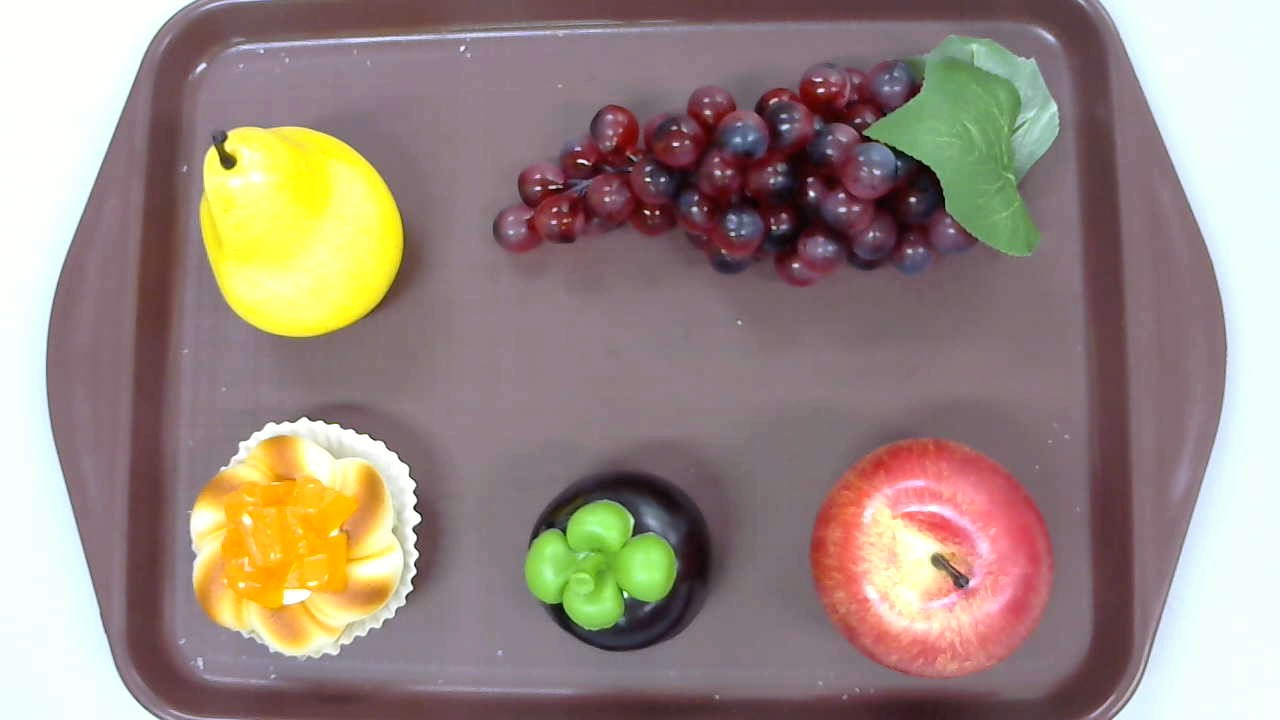grape: (492, 34, 1061, 289)
mango tower: (190, 416, 422, 664)
mangosteen: (523, 468, 714, 652)
red apple: (809, 435, 1053, 681)
yellow pear: (199, 125, 403, 339)
